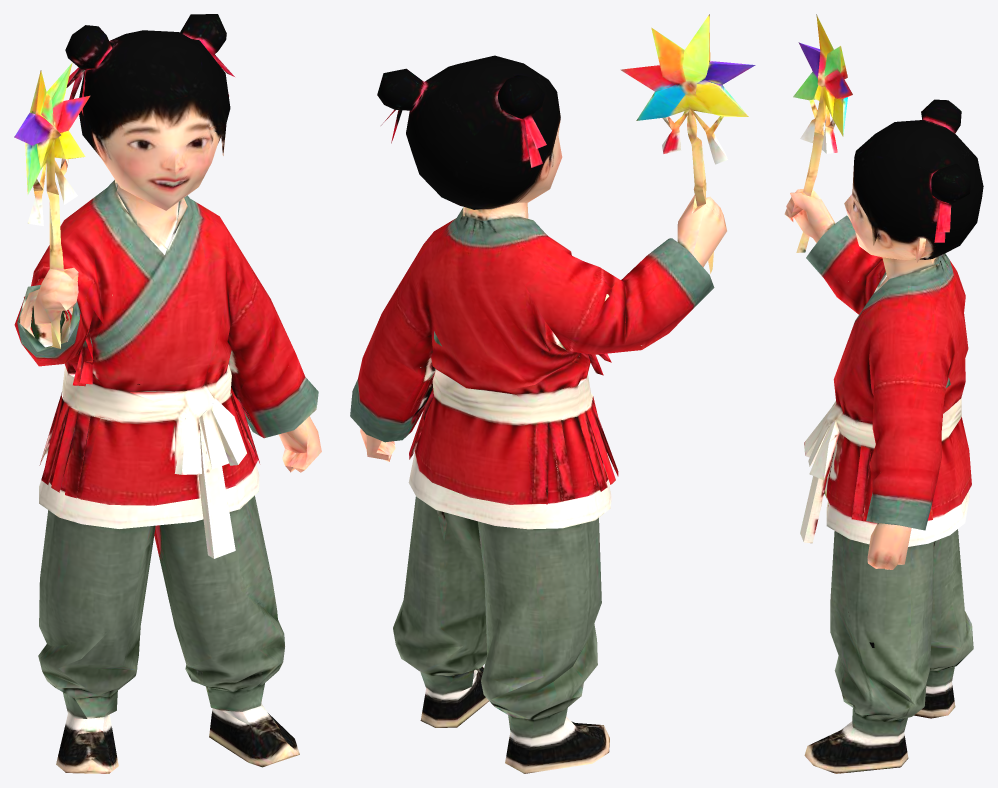
The model's file is p_child_lo.glb.
3 renders of one model, left to right at view 1: azimuth 30°, elevation 25°; view 2: azimuth 150°, elevation 25°; view 3: azimuth 270°, elevation 25°, orthographic. The views are drawn at different scales.
Visible parts, largest first — view 1: p_child; view 2: p_child; view 3: p_child.
Part boxes in pixels (bbox=[...]): p_child: bbox=[14, 14, 321, 773]; p_child: bbox=[350, 14, 755, 773]; p_child: bbox=[784, 14, 983, 773].
Size of the model in its own units: 0.5495 by 1.1 by 0.3053.
1 material, 1 textured.
